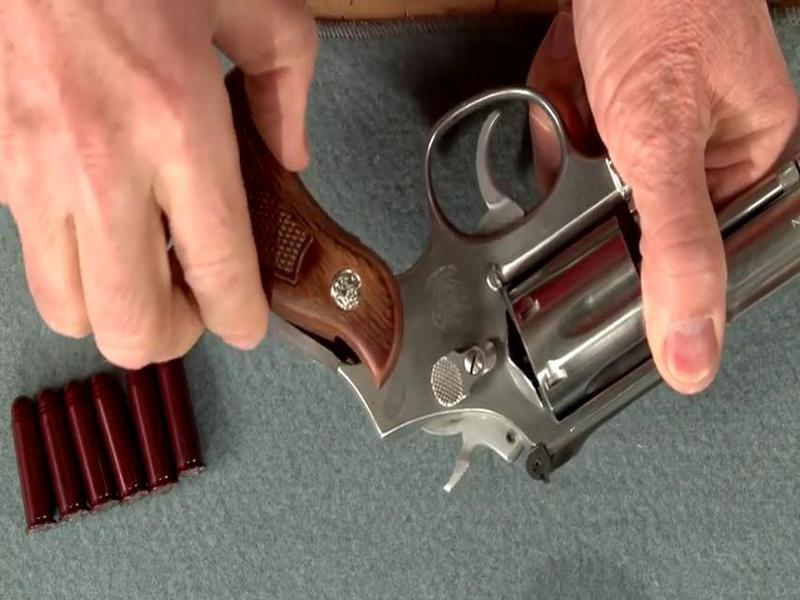Revolver: (92, 75, 790, 507)
